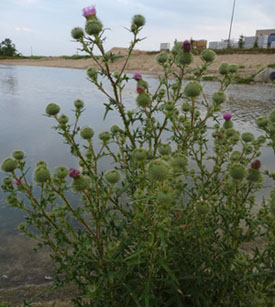thistle: (78, 7, 105, 32), (220, 113, 235, 129), (130, 70, 142, 82)
